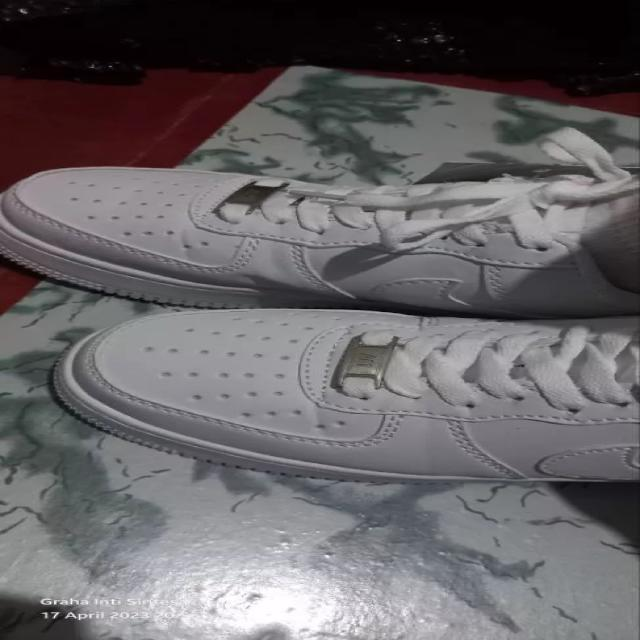nike fake air force: (46, 306, 640, 484), (0, 164, 640, 313)
